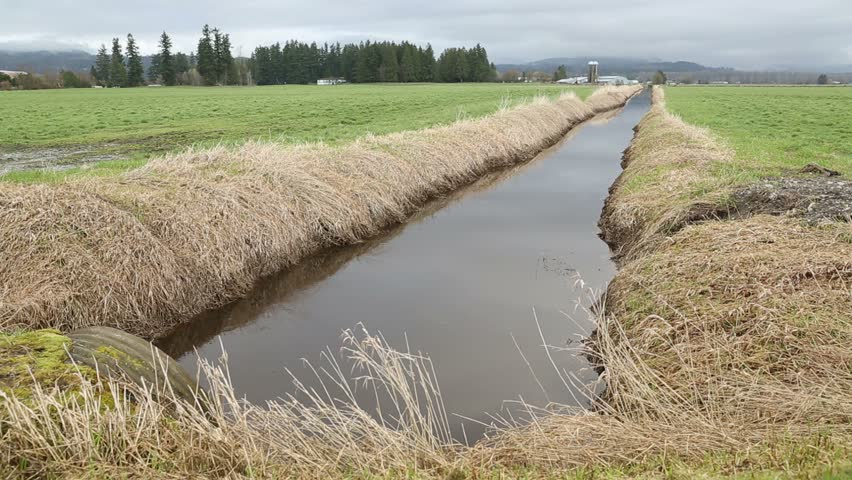building: (563, 54, 639, 82)
culvert: (1, 316, 190, 450)
sky: (1, 1, 479, 48), (508, 1, 852, 62)
tree: (86, 39, 118, 90), (108, 25, 131, 94), (119, 33, 143, 89), (155, 30, 179, 86), (190, 26, 214, 82), (207, 27, 231, 83), (249, 41, 272, 85)
water: (245, 219, 619, 385), (437, 172, 615, 232), (528, 120, 629, 180), (615, 89, 652, 130)
